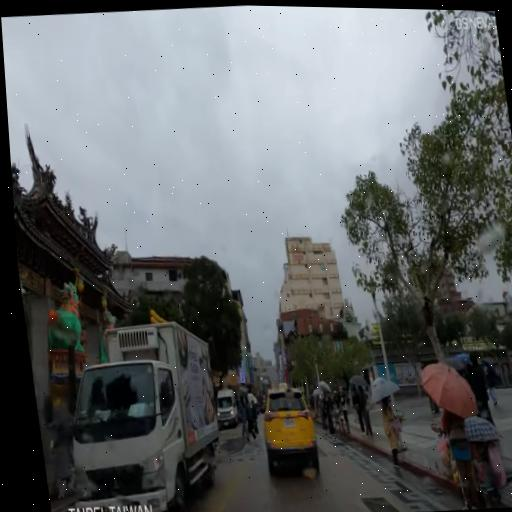Car: (47, 317, 236, 512), (257, 381, 324, 479), (211, 382, 242, 434)
